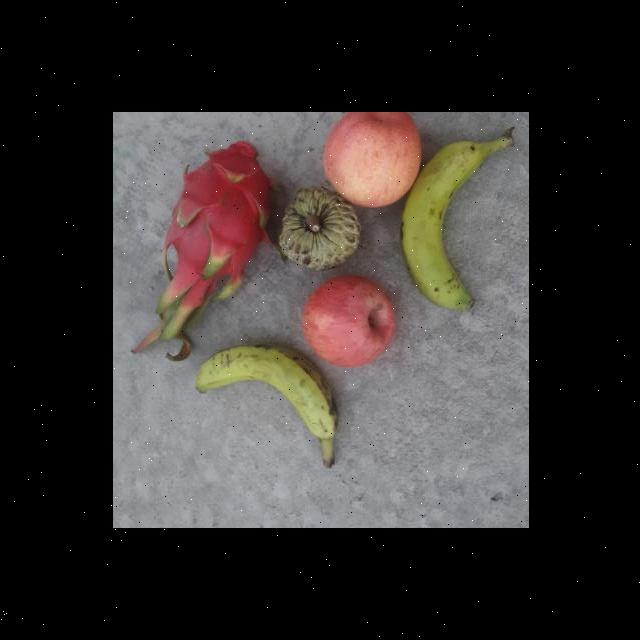Sakya fruit: (276, 184, 361, 272)
apple: (186, 346, 338, 471), (322, 112, 422, 208), (301, 272, 393, 366)
banana: (395, 140, 493, 310)
pitaya: (162, 140, 270, 286)
